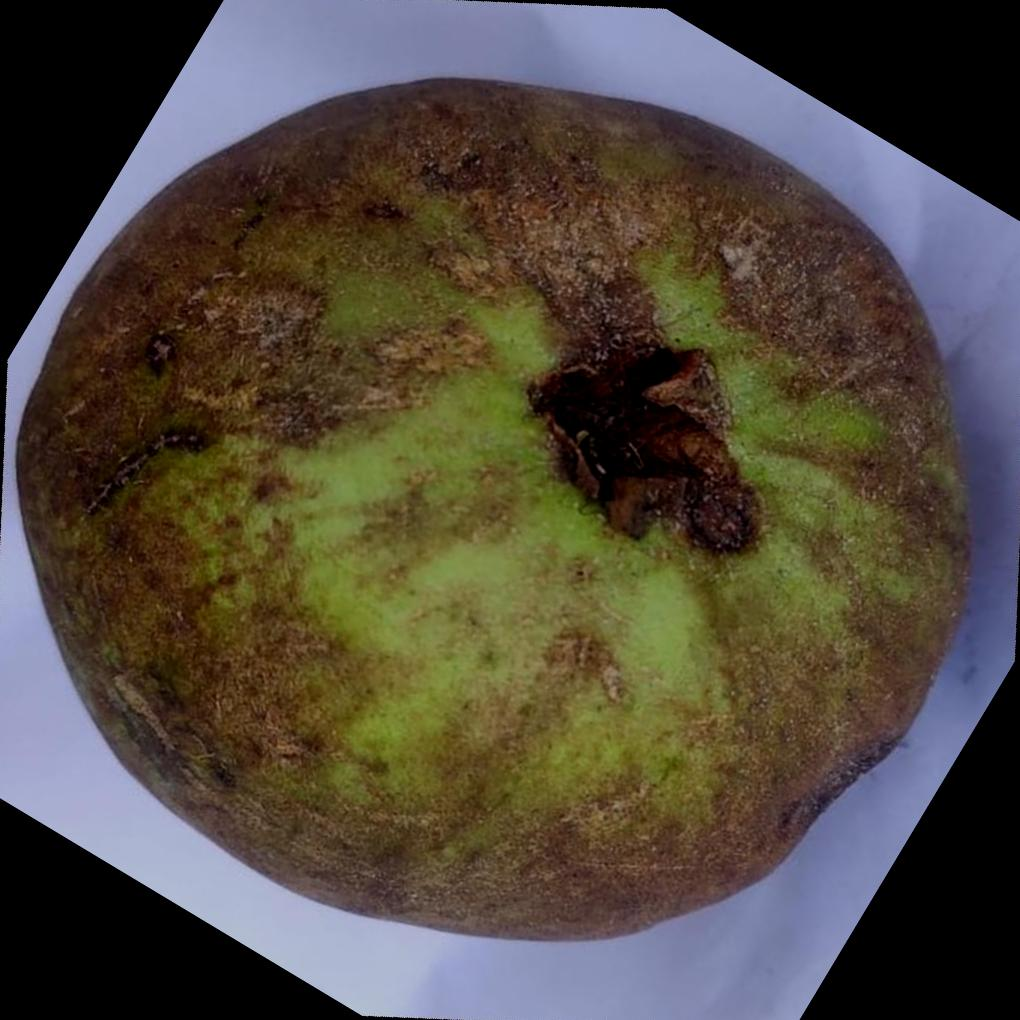FreshOrange: (9, 73, 970, 942)
